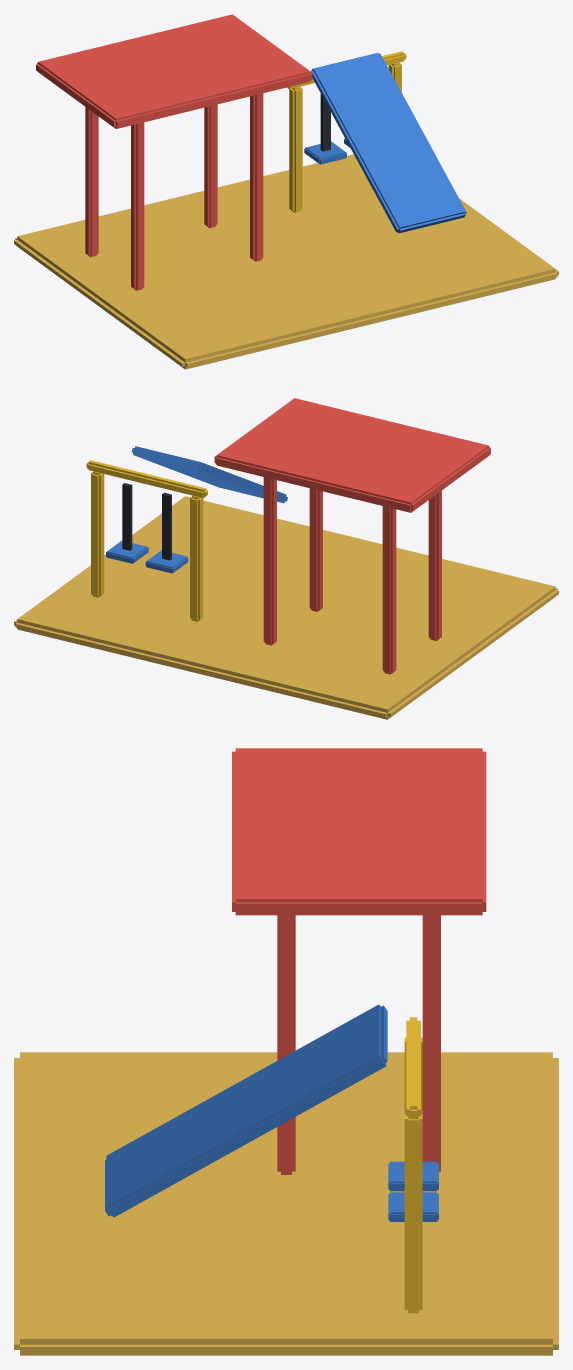
Rendered from playground.glb.
3 renders of one model, top to bottom at view 1: azimuth 30°, elevation 25°; view 2: azimuth 150°, elevation 25°; view 3: azimuth 270°, elevation 25°, orthographic. The views are drawn at different scales.
Visible parts, largest first — view 1: playground; view 2: playground; view 3: playground.
Part boxes in pixels (left/top/right/bottom): playground: left=14, top=14, right=558, bottom=369; playground: left=14, top=398, right=558, bottom=719; playground: left=14, top=748, right=558, bottom=1355.
Bounding box in the file's own units: 1.9 × 0.97 × 1.5.
